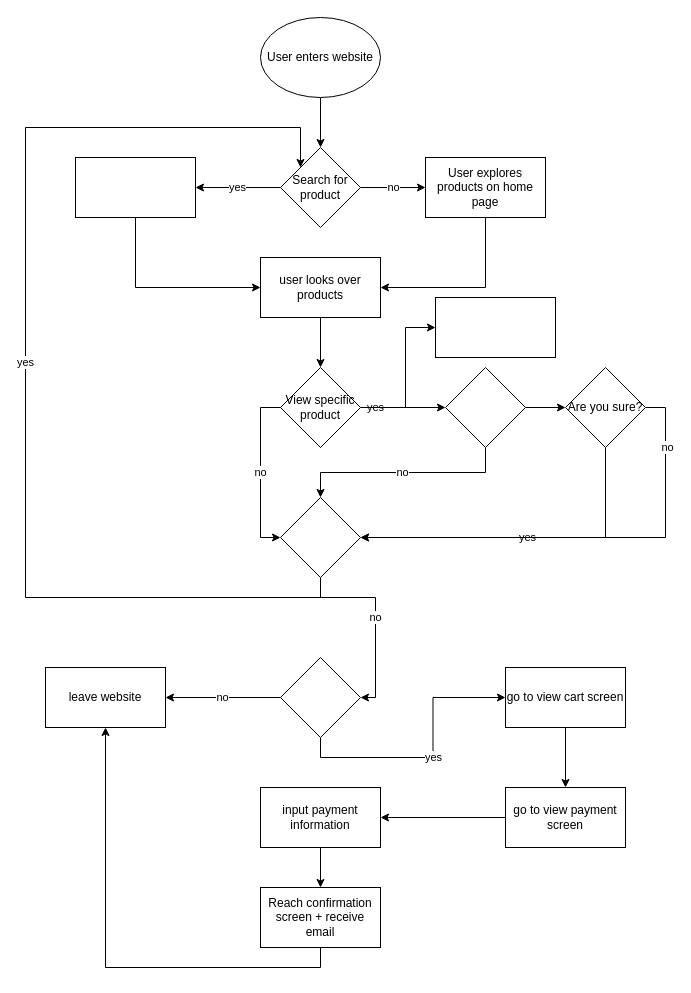
This 691x993 diagram has some shape labels left out. The shapes that lost their labels are listed below. From the top down, each one's box as (x1, y1, x2, y2) in pixels, then its label:
(74, 156, 196, 218): User searches for specific product
(434, 296, 556, 358): open product specific webpage
(444, 366, 526, 448): Add this product to cart?
(280, 496, 360, 578): continue shopping?
(280, 656, 360, 738): checkout?
